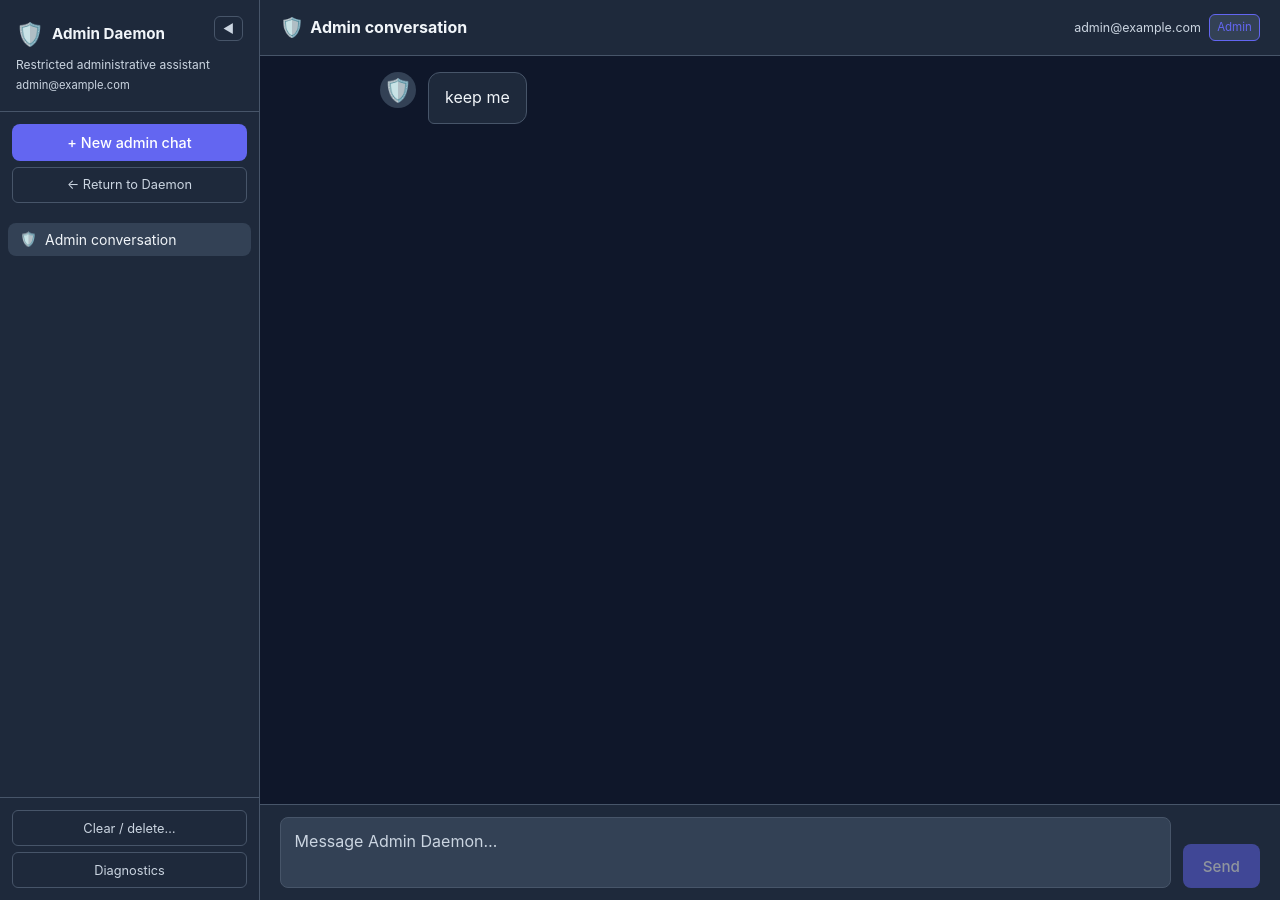
Scenario: AdminDaemonInterface › does not wipe local chat when cloud clear fails
This screenshot has width=1280, height=900.
Click the button with aria-label "Destructive chat actions". click: (130, 828)
box: x1=12 y1=810 x2=247 y2=846
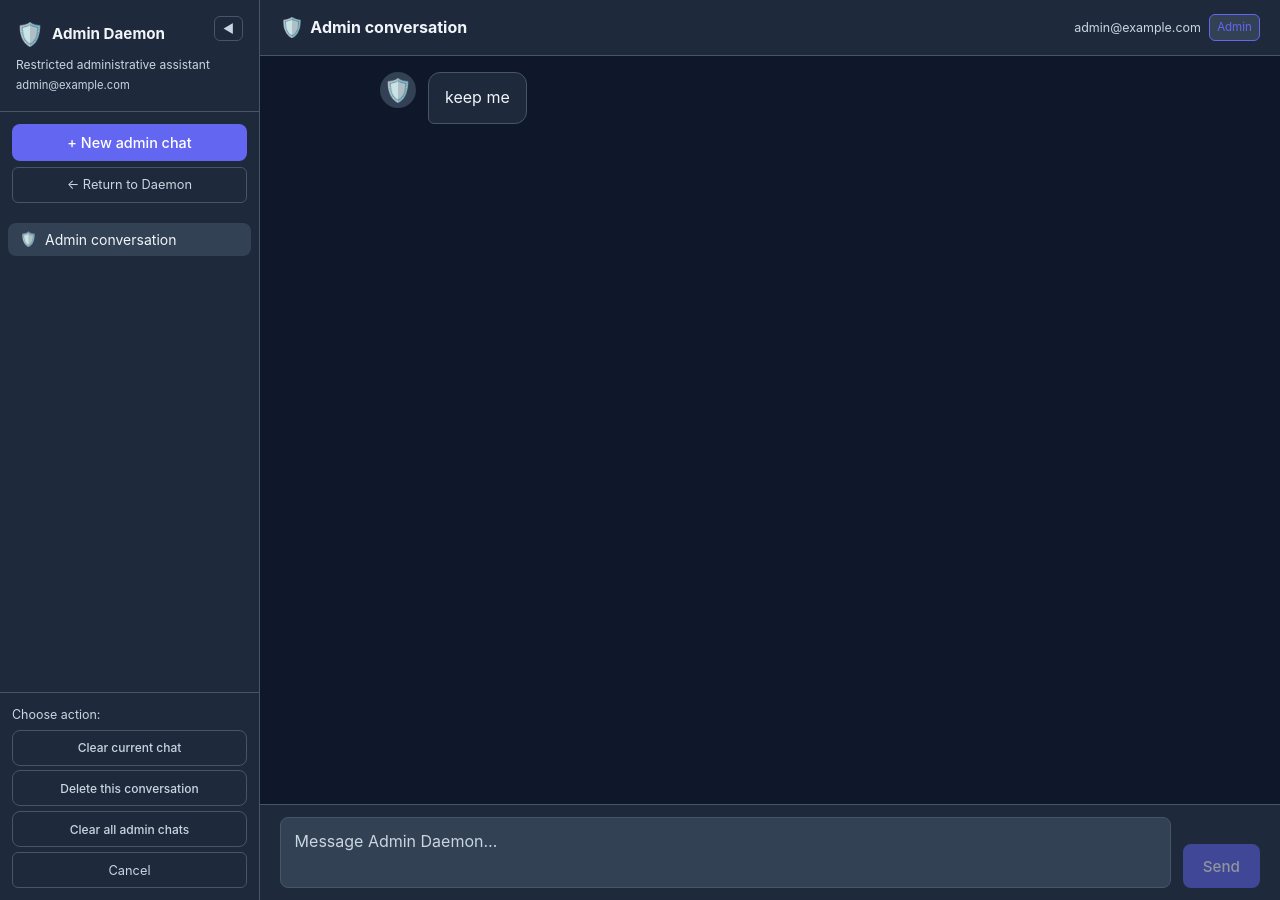
Click the button "Clear current chat". click: (130, 748)
box: x1=12 y1=730 x2=247 y2=766
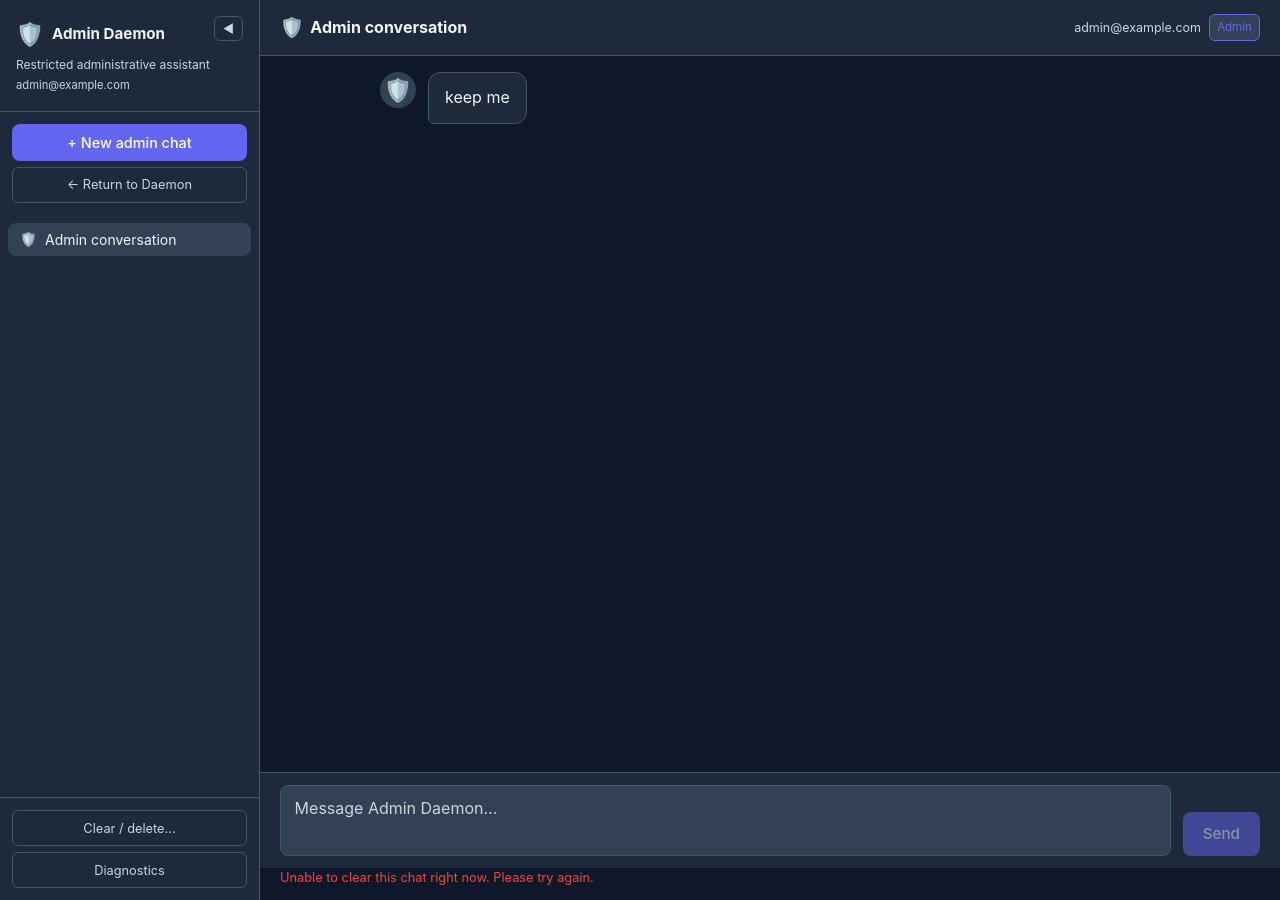
Check: the text "keep me" is shown, box x1=445 y1=85 x2=510 y2=111
Check: the message reads "Unable to clear this chat right now. Please try again.", box x1=280 y1=870 x2=594 y2=884
